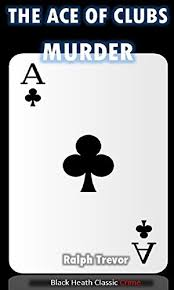ace of clubs: (9, 52, 167, 274)
